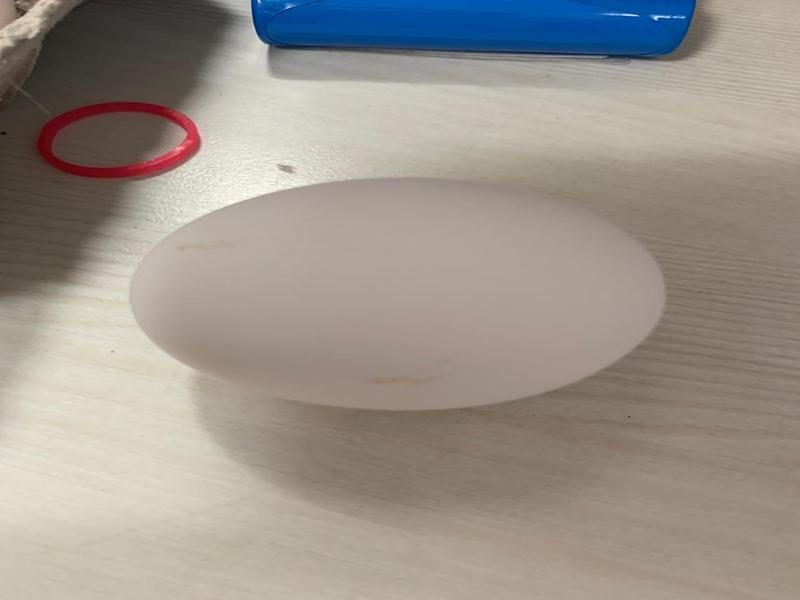egg: (128, 179, 668, 406)
